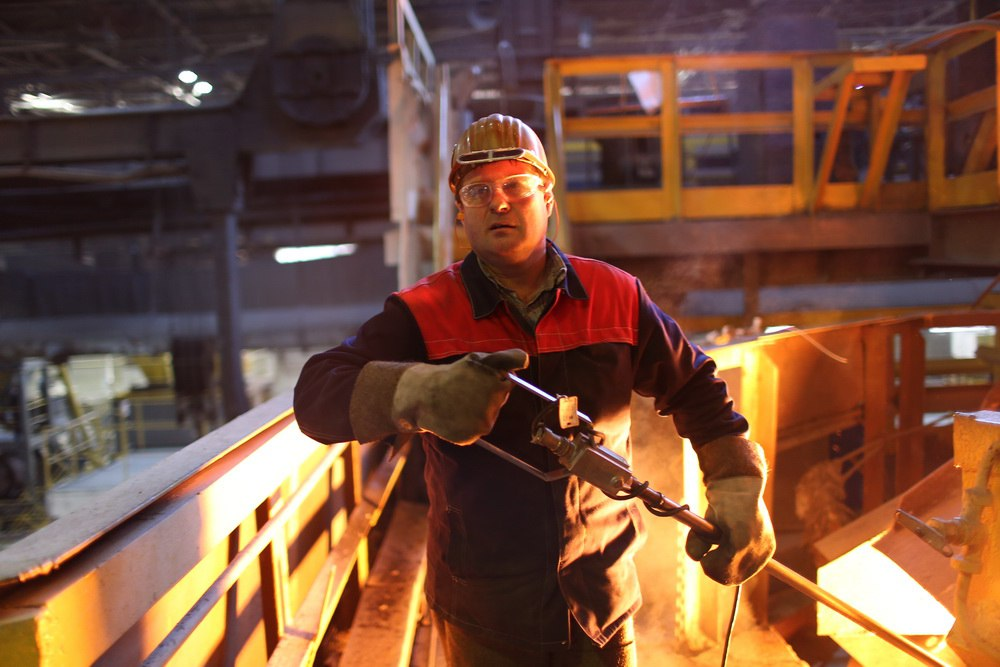person: (294, 113, 776, 667)
